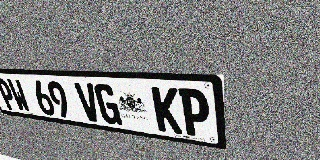6: (30, 80, 57, 116)
9: (45, 81, 73, 118)
G: (93, 83, 122, 125)
K: (151, 87, 182, 134)
P: (178, 88, 210, 138), (0, 78, 19, 111)
V: (74, 82, 102, 123)
W: (6, 79, 32, 113)
